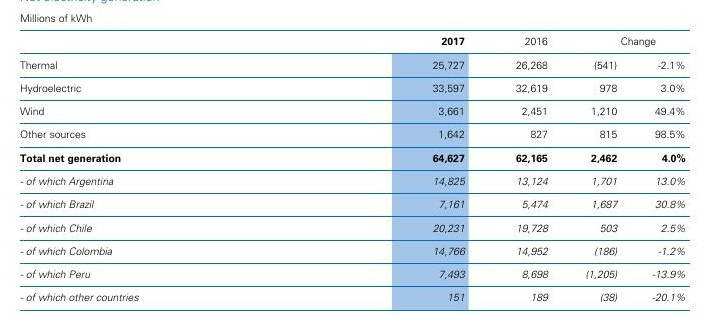table: (0, 0, 706, 326)
